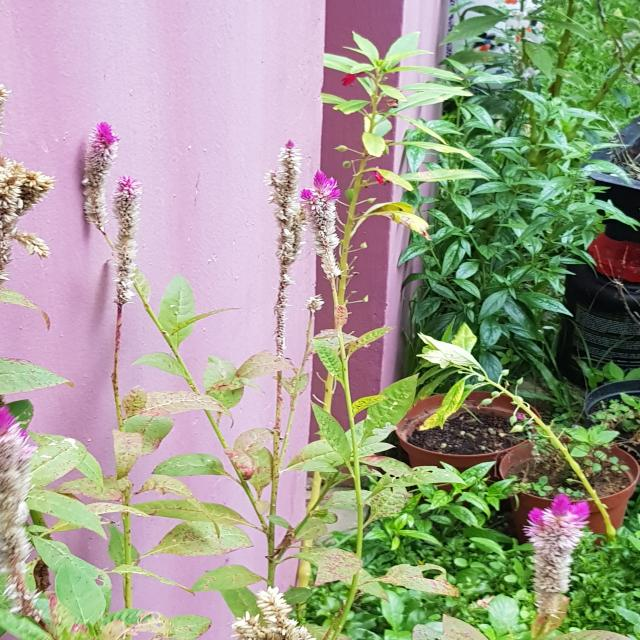Celosia-Argentea: (502, 488, 605, 618), (0, 396, 45, 615), (88, 170, 150, 310), (62, 106, 121, 253), (264, 127, 311, 276), (300, 163, 343, 305), (226, 581, 318, 640)
